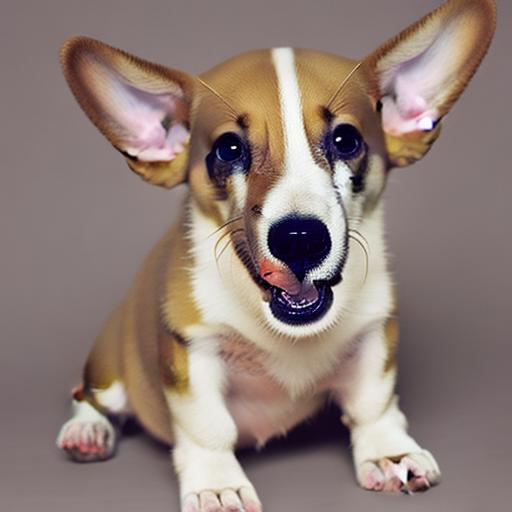eye: (208, 133, 255, 171), (328, 121, 370, 162)
